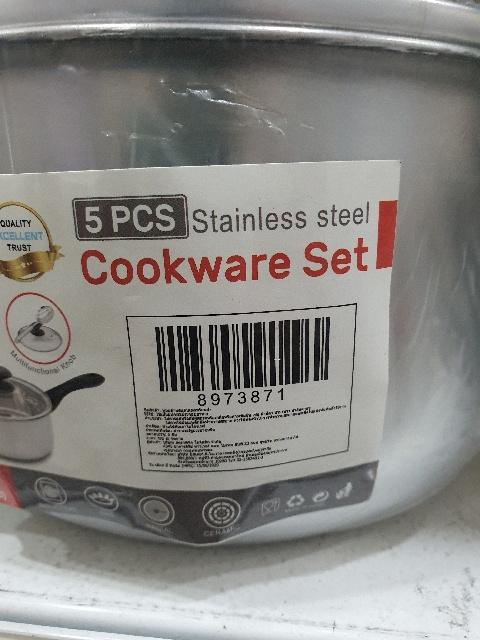Barcode: (141, 313, 347, 410)
